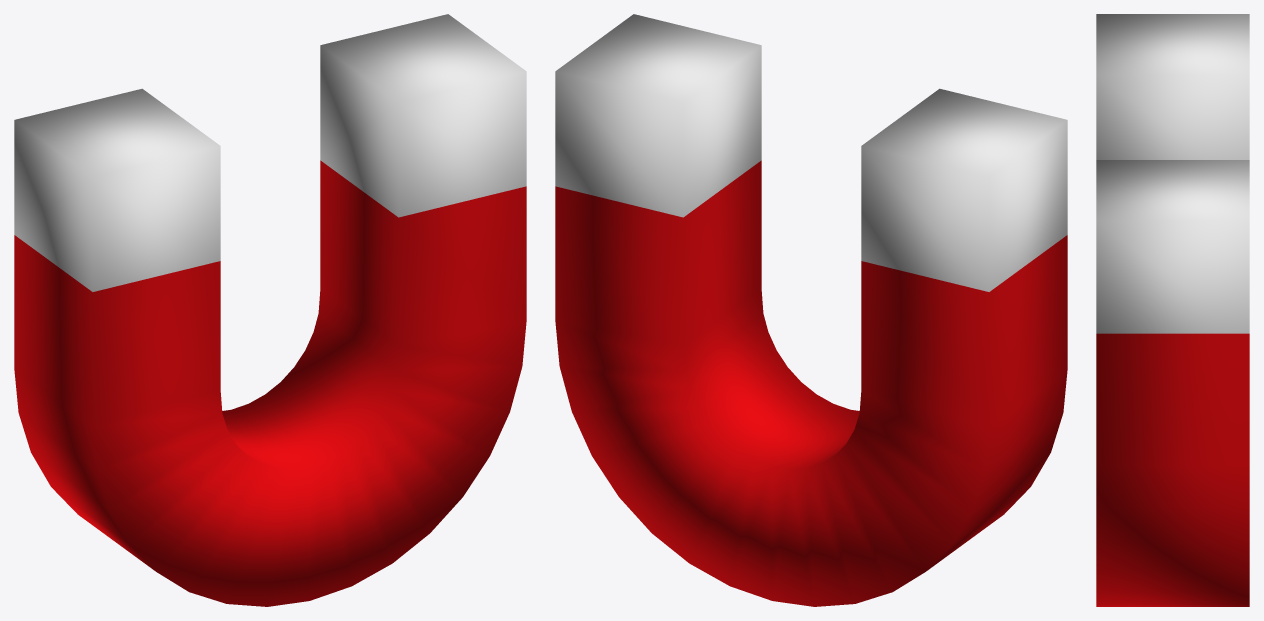
Rendered from Magnet.fbx.
The picture shows the model from 3 angles, left to right: view 1: azimuth 30°, elevation 25°; view 2: azimuth 150°, elevation 25°; view 3: azimuth 270°, elevation 25°; orthographic projection. The views are drawn at different scales.
Visible parts, largest first — view 1: Circle; view 2: Circle; view 3: Circle.
Boxes of the visible parts, <box> form: Circle: <box>14,14,526,606</box>; Circle: <box>555,14,1067,606</box>; Circle: <box>1096,14,1249,606</box>.
Bounding box in the file's own units: 200 × 210 × 62.55.
